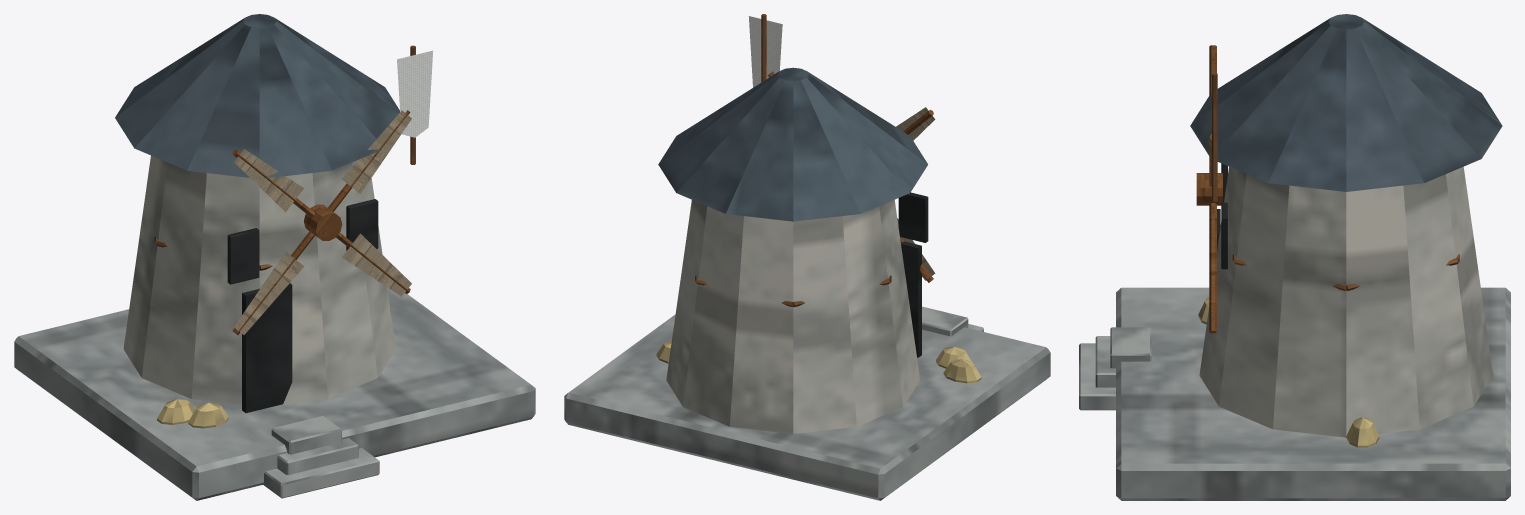
Rendered from edificio-farm-e2-BvX35cZt.glb.
3 views of the same model, side by side, from view 1: azimuth 30°, elevation 25°; view 2: azimuth 150°, elevation 25°; view 3: azimuth 270°, elevation 25° (orthographic). The views are drawn at different scales.
Visible parts, largest first — view 1: molino_e2_envolvente, rotor_molino, molino_e2_team_color; view 2: molino_e2_envolvente, molino_e2_team_color, rotor_molino; view 3: molino_e2_envolvente, rotor_molino.
Boxes of the visible parts, x1,y1,x2,y2 form: molino_e2_envolvente: [14, 14, 535, 500]; rotor_molino: [232, 110, 411, 334]; molino_e2_team_color: [397, 50, 433, 137]; molino_e2_envolvente: [564, 14, 1050, 500]; molino_e2_team_color: [749, 16, 782, 87]; rotor_molino: [768, 71, 935, 282]; molino_e2_envolvente: [1079, 14, 1510, 500]; rotor_molino: [1196, 45, 1222, 333].
Size of the model in its own units: 52 by 52.5 by 52.5.
3 materials, 3 textured.
